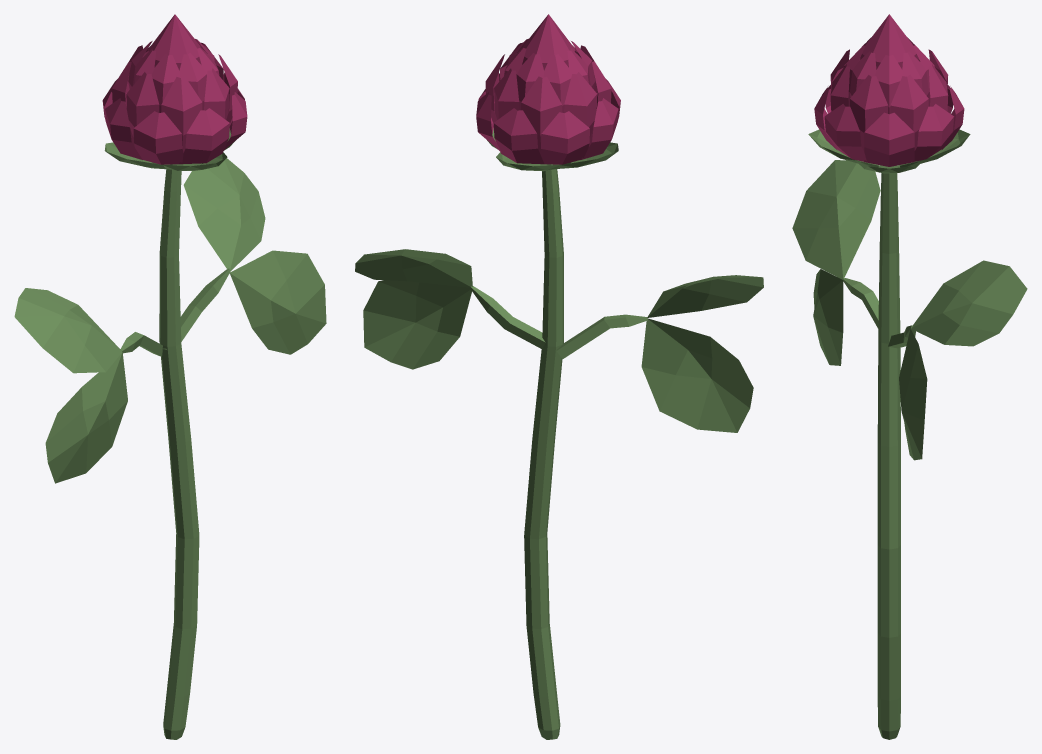
The model's file is Clover.fbx.
3 views of the same model, side by side, from view 1: azimuth 30°, elevation 25°; view 2: azimuth 150°, elevation 25°; view 3: azimuth 270°, elevation 25° (orthographic).
Parts seen in each view (by area): view 1: Clover_LOD0; view 2: Clover_LOD0; view 3: Clover_LOD0.
Boxes of the visible parts, bbox=[...] form: Clover_LOD0: bbox=[14, 14, 326, 739]; Clover_LOD0: bbox=[355, 14, 763, 739]; Clover_LOD0: bbox=[792, 14, 1027, 739].
Size of what is drawn, in the model's own units: 99.59 by 194 by 56.96.
